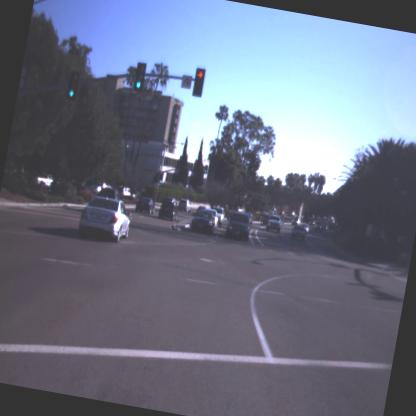trafficlight: (130, 59, 148, 95), (190, 64, 208, 98), (62, 70, 81, 101)
